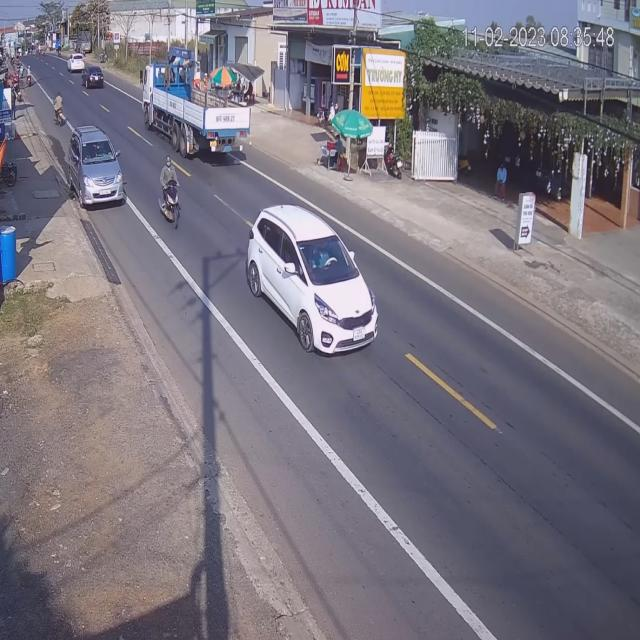car: (245, 203, 377, 357), (67, 128, 123, 212), (84, 64, 106, 88), (68, 54, 85, 75)
motorbike: (159, 161, 181, 229), (55, 93, 67, 127)
truck: (140, 54, 250, 150)
